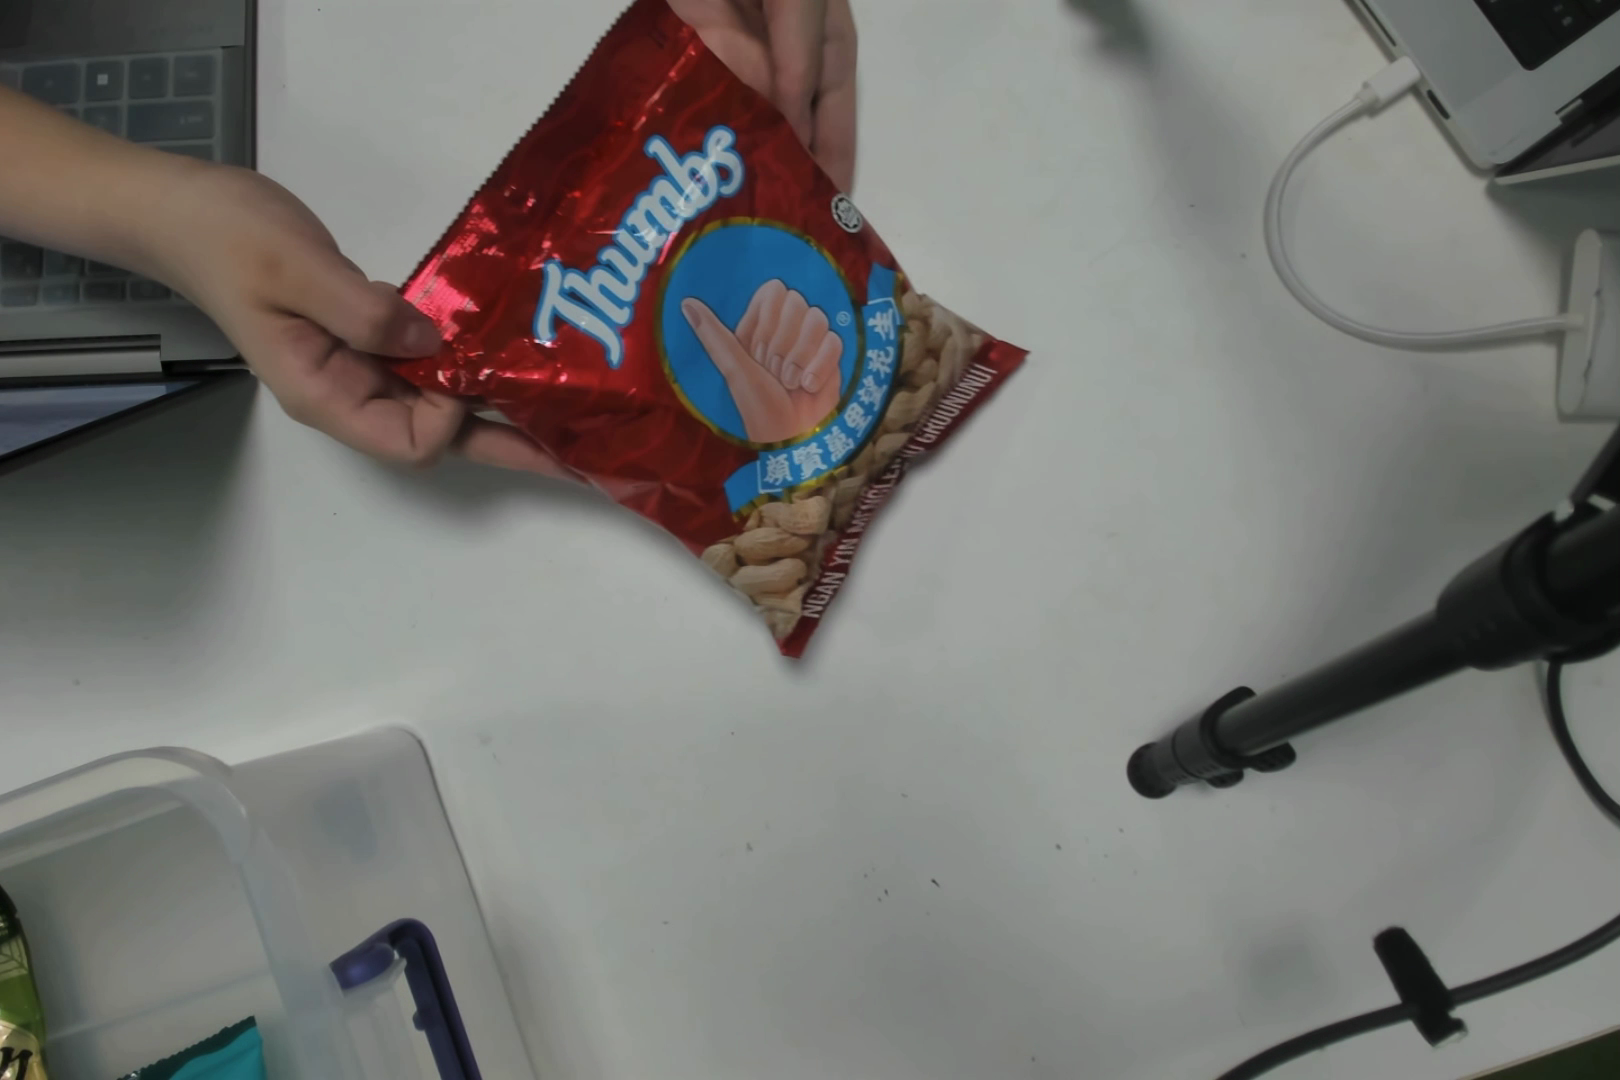Nuts_100-199g_Halal_NonHealthy: (533, 90, 953, 597)
